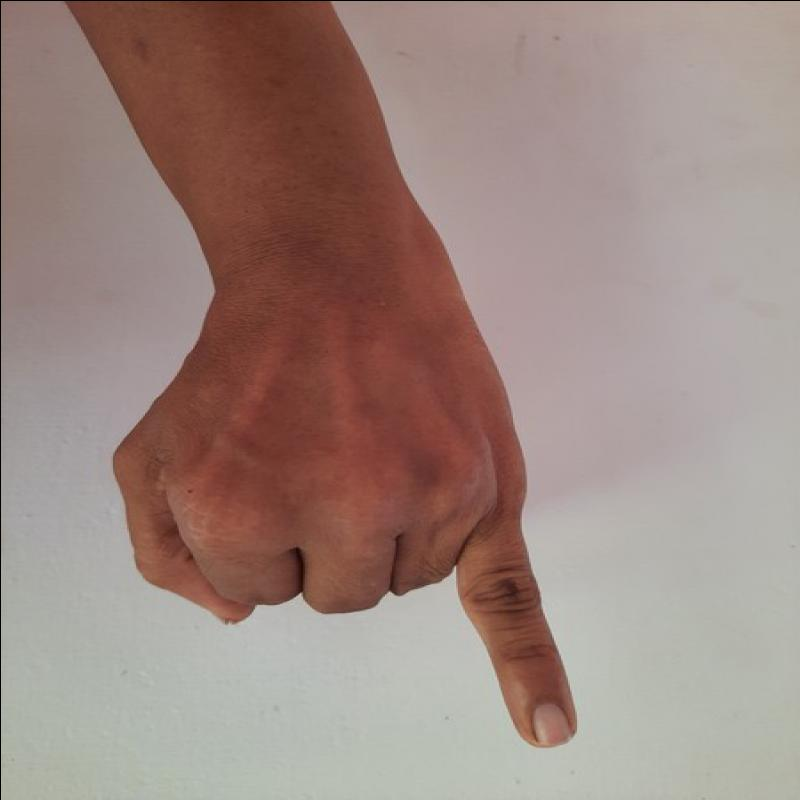Kartharee Mukham: (98, 275, 610, 758)
